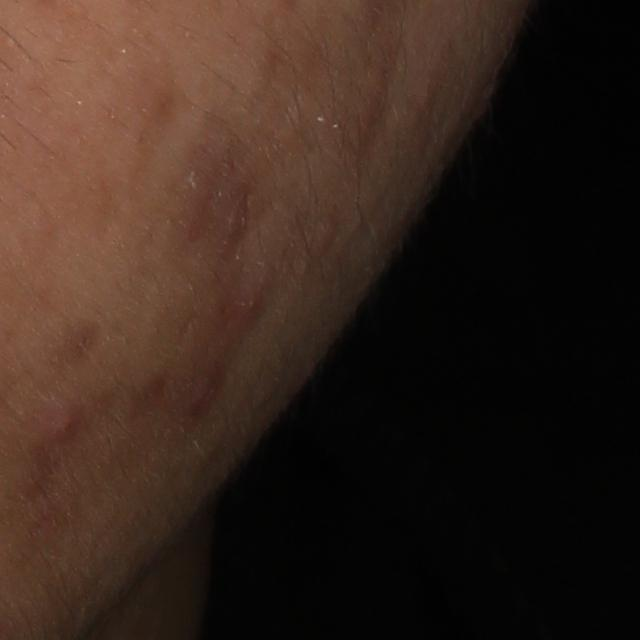papule: (43, 411, 80, 442), (237, 282, 262, 320)
